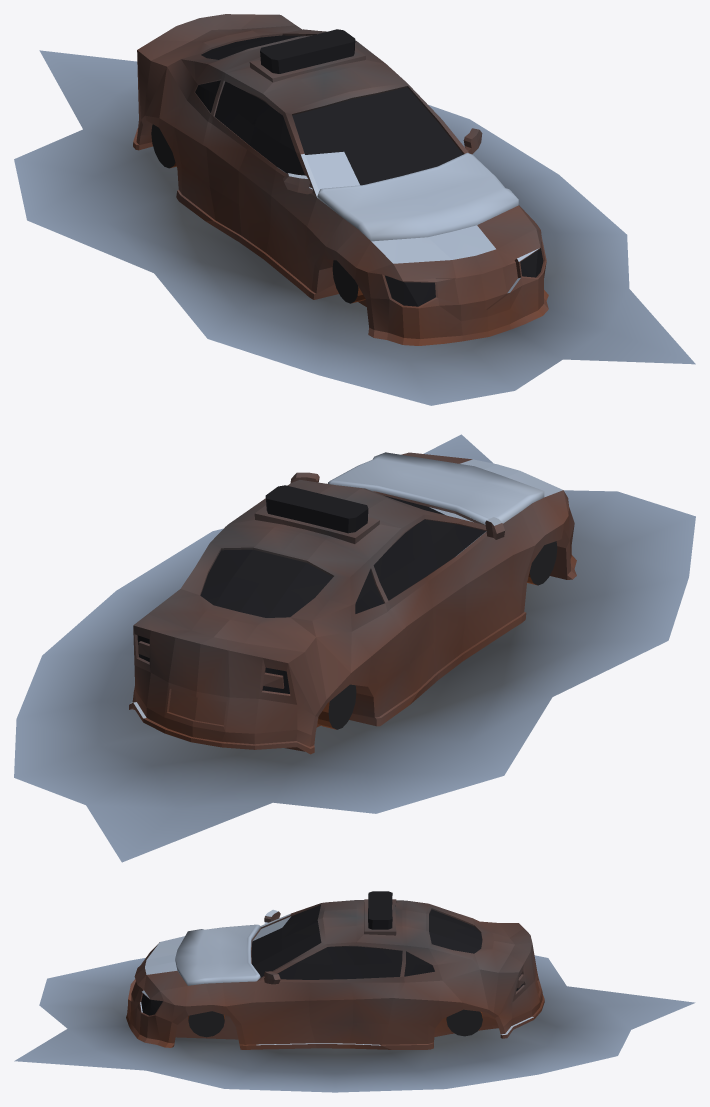
Rendered from police_burnt.glb.
The picture shows the model from 3 angles, top to bottom: view 1: azimuth 30°, elevation 25°; view 2: azimuth 150°, elevation 25°; view 3: azimuth 270°, elevation 25°; orthographic projection. The views are drawn at different scales.
Visible parts, largest first — view 1: Body; view 2: Body; view 3: Body.
Boxes of the visible parts, <box> form: Body: <box>14,14,695,405</box>; Body: <box>14,434,695,862</box>; Body: <box>14,891,695,1092</box>.
Size of the model in its own units: 4.22 by 1.46 by 7.97.
